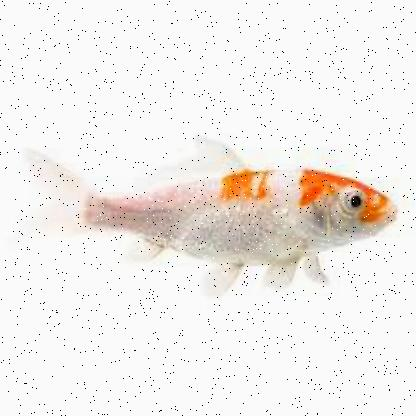ikan-mas: (18, 136, 404, 286)
